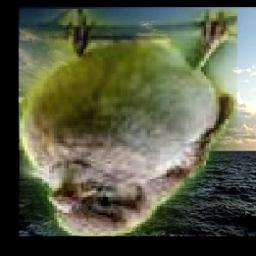Sparrow: (20, 9, 237, 236)
